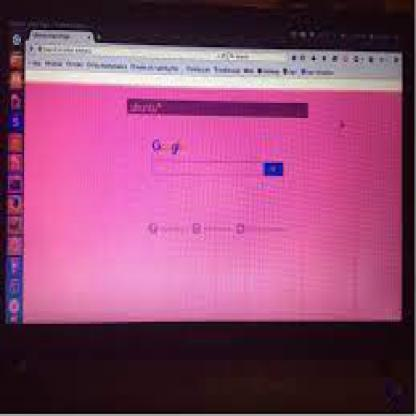fade: (5, 30, 398, 324)
